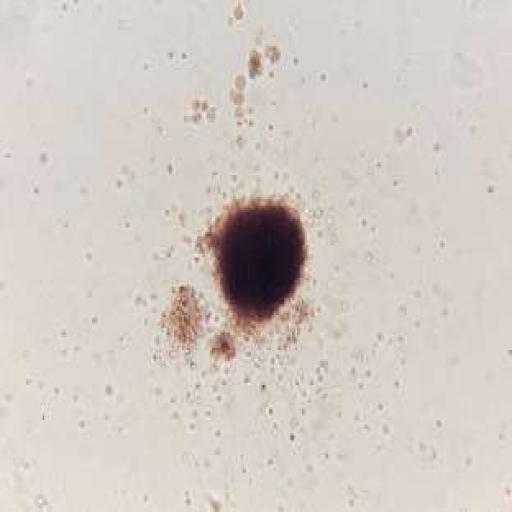CFU-GEMM: (208, 199, 305, 319)
